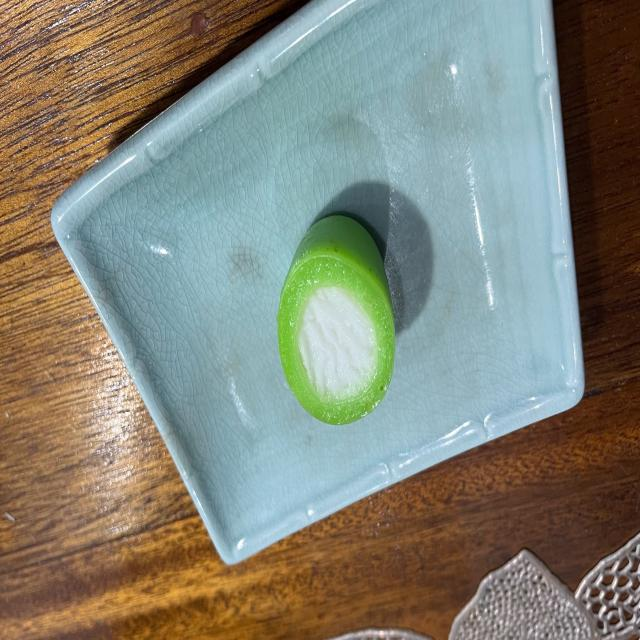nona-manis: (278, 216, 395, 424)
